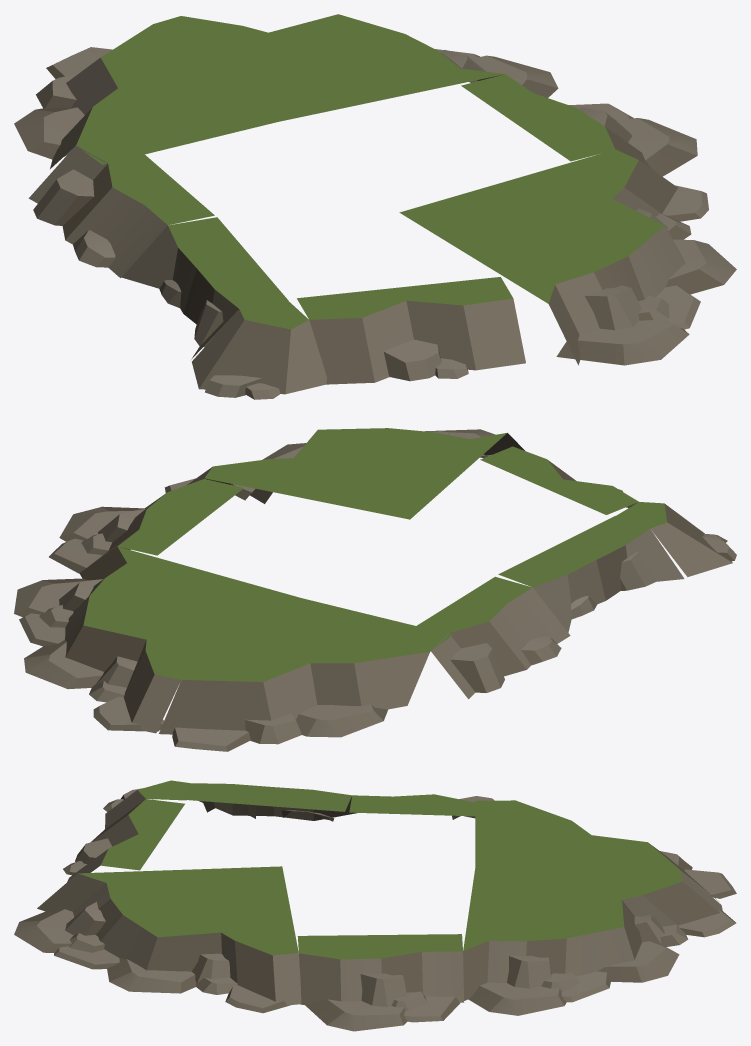
Rendered from Mountain33.fbx.
The picture shows the model from 3 angles, top to bottom: view 1: azimuth 30°, elevation 25°; view 2: azimuth 150°, elevation 25°; view 3: azimuth 270°, elevation 25°; orthographic projection. The views are drawn at different scales.
Parts seen in each view (by area): view 1: Mountain33; view 2: Mountain33; view 3: Mountain33.
Part boxes in pixels (x1=…): Mountain33: x1=14, y1=14, x2=736, y2=399; Mountain33: x1=14, y1=428, x2=736, y2=751; Mountain33: x1=14, y1=780, x2=736, y2=1031.
Bounding box in the file's own units: 69.15 × 5 × 88.02.
